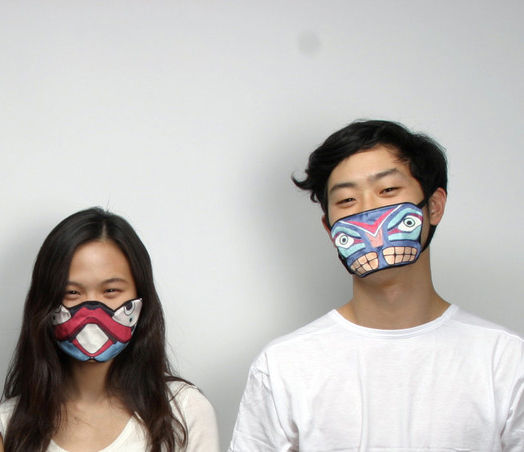face_mask: (327, 149, 427, 273), (47, 240, 137, 355)
